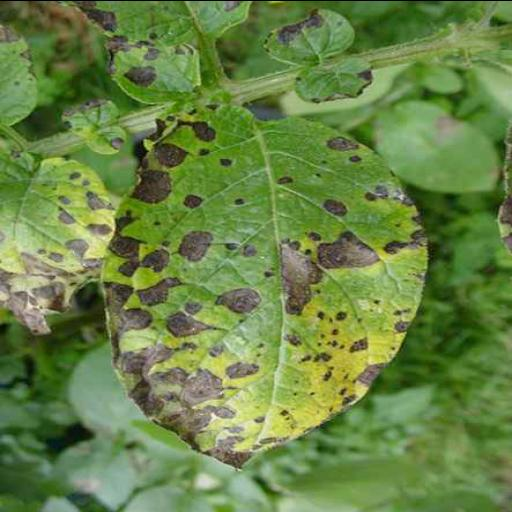disease_tomato: (104, 100, 428, 474), (1, 151, 119, 333)
